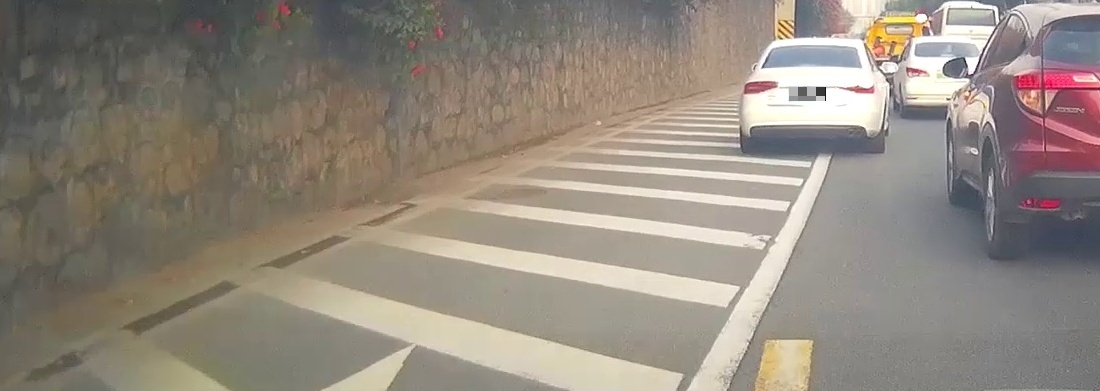L_light: (742, 81, 779, 94)
R_light: (839, 81, 875, 94)
T_light: (803, 45, 825, 49)
day-no: (740, 37, 878, 156)
plate_1: (789, 87, 826, 101)
